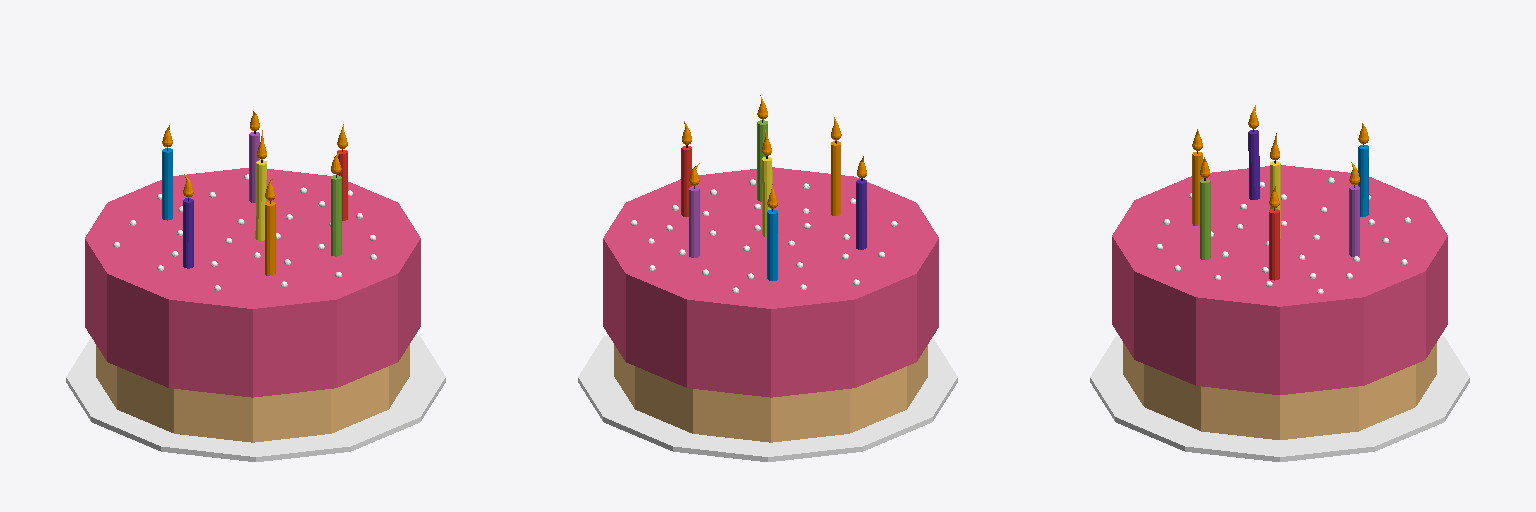
3 renders of one model, left to right at view 1: azimuth 30°, elevation 25°; view 2: azimuth 150°, elevation 25°; view 3: azimuth 270°, elevation 25°, orthographic.
Parts seen in each view (by area): view 1: group[number redacted], group[number redacted], group[number redacted], group[number redacted], group[number redacted], group[number redacted], group[number redacted], group[number redacted], group[number redacted]; view 2: group[number redacted], group[number redacted], group[number redacted], group[number redacted], group[number redacted], group[number redacted], group[number redacted], group[number redacted], group[number redacted]; view 3: group[number redacted], group[number redacted], group[number redacted], group[number redacted], group[number redacted], group[number redacted], group[number redacted], group[number redacted], group[number redacted].
Part boxes in pixels (left/top/right/bottom): group[number redacted]: left=85, top=168, right=420, bottom=397; group[number redacted]: left=96, top=345, right=409, bottom=442; group[number redacted]: left=66, top=335, right=445, bottom=461; group[number redacted]: left=331, top=175, right=341, bottom=256; group[number redacted]: left=265, top=201, right=275, bottom=275; group[number redacted]: left=255, top=160, right=266, bottom=240; group[number redacted]: left=162, top=148, right=172, bottom=220; group[number redacted]: left=183, top=198, right=193, bottom=268; group[number redacted]: left=249, top=132, right=259, bottom=202; group[number redacted]: left=603, top=167, right=938, bottom=397; group[number redacted]: left=614, top=345, right=927, bottom=442; group[number redacted]: left=578, top=335, right=957, bottom=461; group[number redacted]: left=767, top=209, right=777, bottom=280; group[number redacted]: left=689, top=187, right=699, bottom=257; group[number redacted]: left=856, top=179, right=866, bottom=249; group[number redacted]: left=831, top=141, right=840, bottom=215; group[number redacted]: left=681, top=146, right=691, bottom=216; group[number redacted]: left=761, top=157, right=772, bottom=236; group[number redacted]: left=1112, top=165, right=1447, bottom=394; group[number redacted]: left=1123, top=343, right=1436, bottom=439; group[number redacted]: left=1090, top=336, right=1469, bottom=461; group[number redacted]: left=1200, top=179, right=1210, bottom=259; group[number redacted]: left=1269, top=209, right=1279, bottom=280; group[number redacted]: left=1349, top=186, right=1359, bottom=256; group[number redacted]: left=1248, top=130, right=1259, bottom=199; group[number redacted]: left=1358, top=145, right=1368, bottom=216; group[number redacted]: left=1192, top=152, right=1202, bottom=225.
Bounding box in the file's own units: 1.04 × 0.7622 × 1.04.